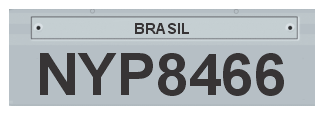placa: (41, 60, 284, 95)
